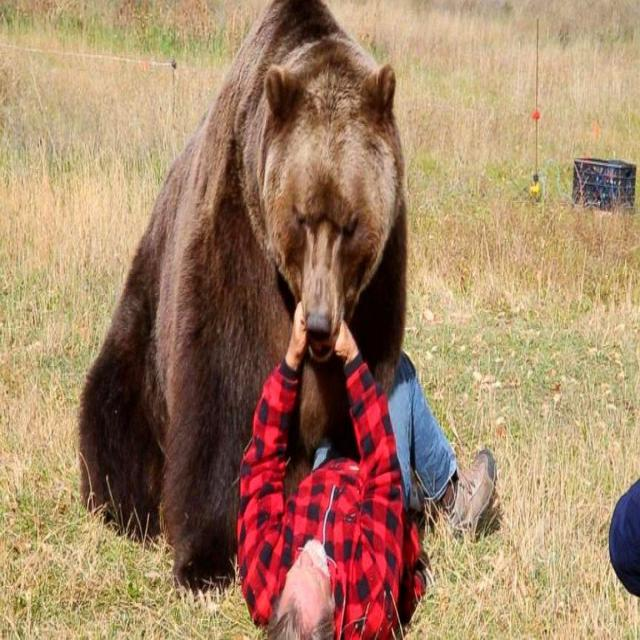Bear: (77, 0, 409, 594)
